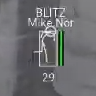hacks_1: (27, 6, 76, 82)
